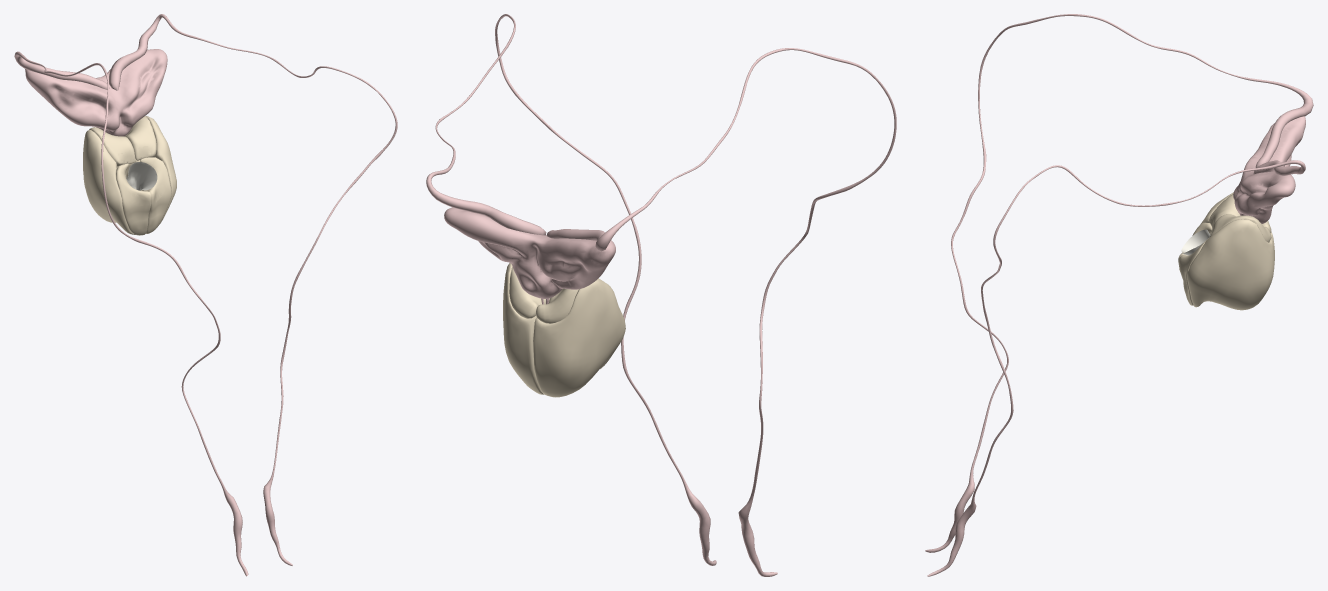
The model's file is reproductive.glb.
3 renders of one model, left to right at view 1: azimuth 30°, elevation 25°; view 2: azimuth 150°, elevation 25°; view 3: azimuth 270°, elevation 25°, orthographic. The views are drawn at different scales.
Visible parts, largest first — view 1: VH_M_vas_deferens_L, VH_M_prostate_duct_R, VH_M_prostatic_urethra; view 2: VH_M_vas_deferens_L, VH_M_prostate_duct_R; view 3: VH_M_vas_deferens_L, VH_M_prostate_duct_R.
Boxes of the visible parts, x1,y1,x2,y2 form: VH_M_vas_deferens_L: (14,14,397,576); VH_M_prostate_duct_R: (83,116,176,235); VH_M_prostatic_urethra: (126,162,157,190); VH_M_vas_deferens_L: (426,14,896,576); VH_M_prostate_duct_R: (503,263,625,397); VH_M_vas_deferens_L: (925,14,1313,576); VH_M_prostate_duct_R: (1178,192,1274,310).
Size of the model in its own units: 0.1167 by 0.1755 by 0.1229.
